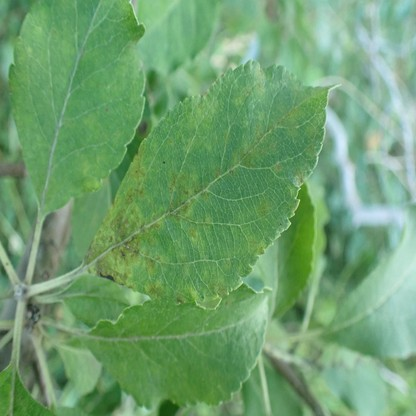scab: (83, 69, 329, 303), (8, 1, 146, 209)
